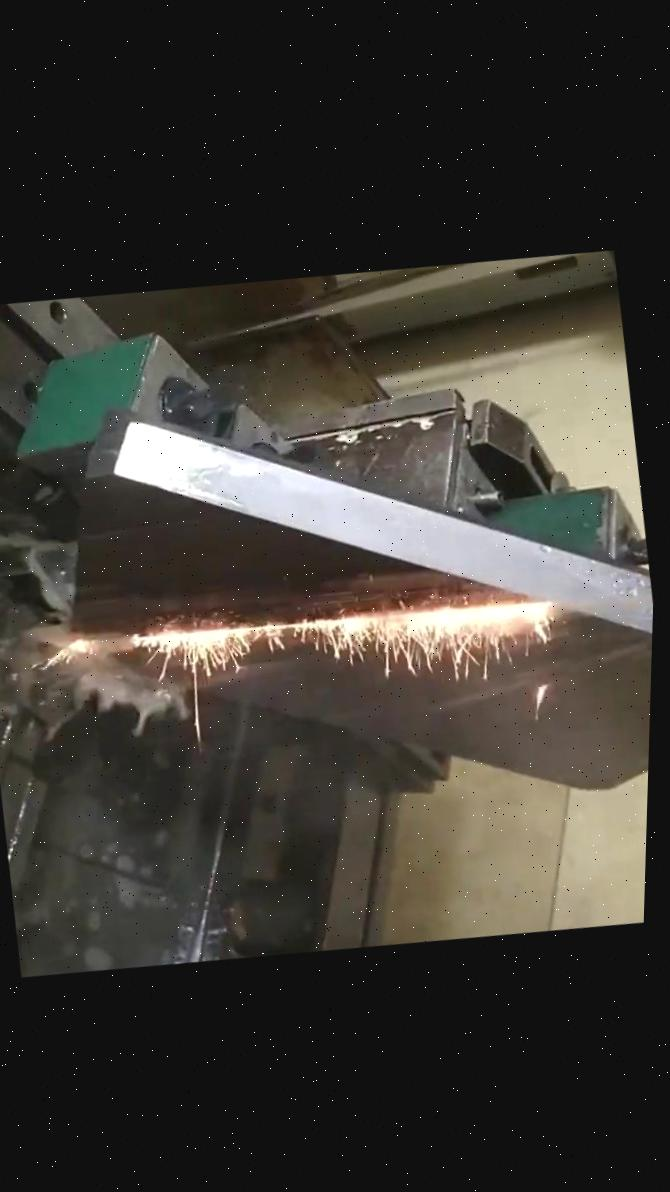fire: (54, 535, 577, 730)
